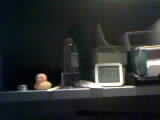duck: (29, 69, 56, 94)
